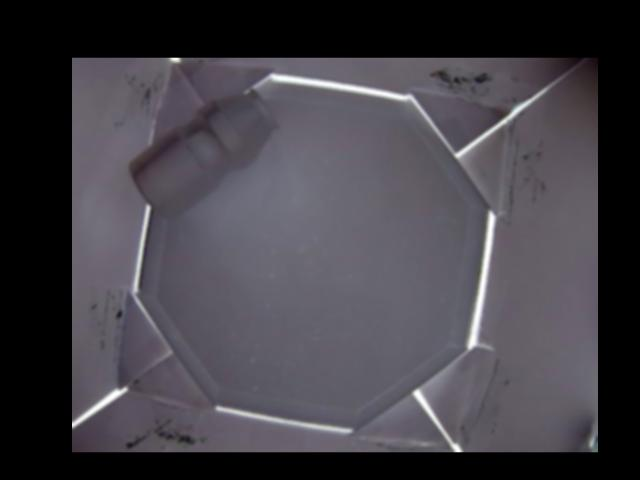Bottle: (129, 85, 280, 222)
